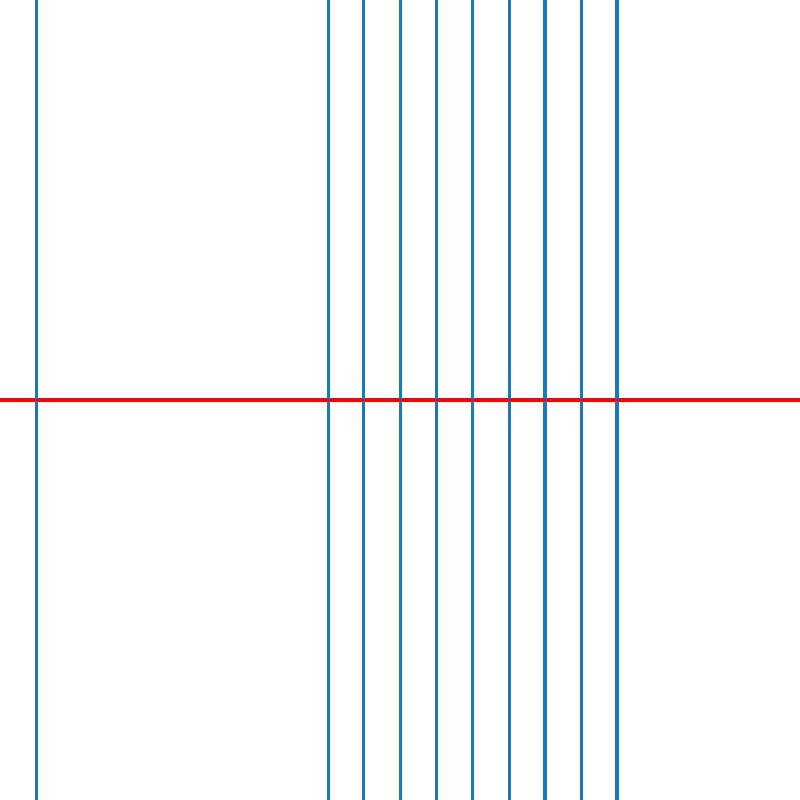root: (541, 396, 549, 404), (32, 396, 40, 404), (432, 396, 440, 404), (578, 396, 585, 404), (505, 396, 512, 404), (469, 396, 476, 404), (323, 396, 330, 404), (396, 396, 403, 404), (360, 396, 367, 404), (614, 396, 621, 404)
